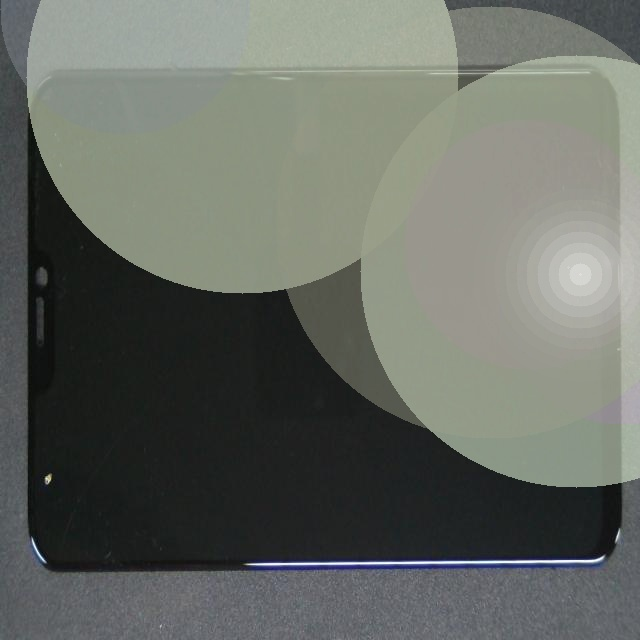stain: (11, 210, 46, 640)
